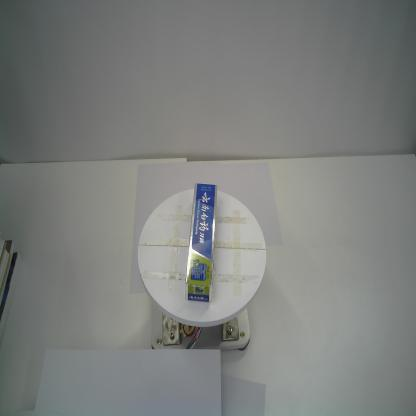Personal Hygiene: (184, 181, 219, 302)
